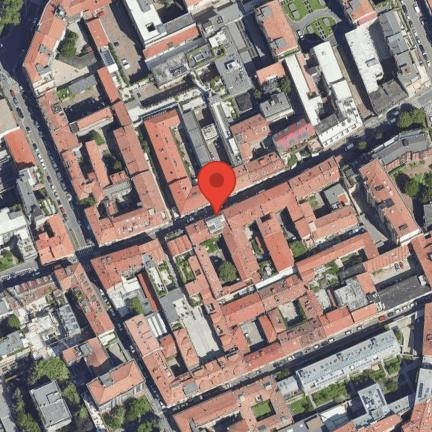area_open: (149, 254, 223, 364), (283, 0, 350, 52)
built: (144, 109, 255, 217), (347, 9, 430, 118), (225, 181, 305, 273), (186, 255, 254, 356), (296, 330, 402, 394), (359, 159, 425, 245), (314, 42, 364, 150), (53, 262, 114, 336), (184, 212, 251, 279), (112, 169, 174, 240), (22, 0, 65, 97), (231, 114, 288, 185), (333, 383, 414, 432), (194, 244, 263, 300), (296, 230, 380, 274), (233, 374, 296, 432), (204, 29, 254, 99), (143, 350, 200, 407), (171, 389, 242, 432), (150, 43, 214, 89), (86, 358, 146, 406), (38, 88, 82, 153), (286, 55, 325, 128), (207, 93, 244, 168), (140, 22, 204, 62), (192, 350, 250, 394), (61, 149, 106, 205), (290, 156, 347, 200), (182, 111, 218, 179), (91, 245, 144, 291), (256, 0, 299, 56), (197, 1, 257, 41), (63, 337, 115, 379), (0, 202, 38, 259), (29, 380, 72, 430), (1, 274, 60, 310), (125, 0, 170, 46), (35, 214, 74, 265), (259, 273, 310, 312), (114, 124, 151, 176), (281, 316, 328, 356), (311, 203, 359, 242), (364, 241, 417, 275), (405, 370, 432, 432), (273, 119, 316, 156), (221, 292, 265, 328), (125, 313, 160, 357), (85, 204, 120, 246), (4, 128, 36, 172), (107, 277, 142, 317), (245, 340, 287, 373), (173, 327, 203, 371), (335, 275, 371, 311), (264, 232, 296, 272), (86, 140, 112, 189), (412, 229, 432, 291), (74, 106, 117, 134), (320, 305, 356, 338), (137, 269, 163, 313), (57, 0, 114, 20), (19, 168, 41, 218), (341, 0, 379, 28), (261, 90, 293, 123), (0, 330, 30, 362), (0, 94, 20, 138), (98, 67, 121, 104), (87, 20, 114, 49), (139, 239, 168, 266), (298, 290, 324, 320), (256, 61, 287, 86), (419, 302, 432, 358), (359, 273, 380, 303), (167, 235, 194, 258), (259, 313, 279, 343), (158, 333, 179, 360), (352, 302, 379, 322), (113, 100, 133, 127), (268, 309, 289, 333), (295, 218, 313, 240), (300, 200, 317, 223), (112, 170, 129, 185)
vegetation_low: (291, 352, 419, 419), (4, 352, 95, 432), (106, 391, 165, 432), (391, 154, 432, 206)
